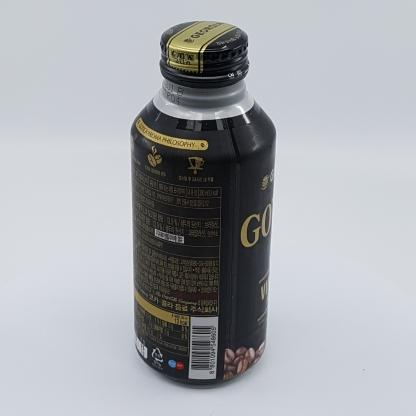-----------390ML: (130, 21, 276, 384)
